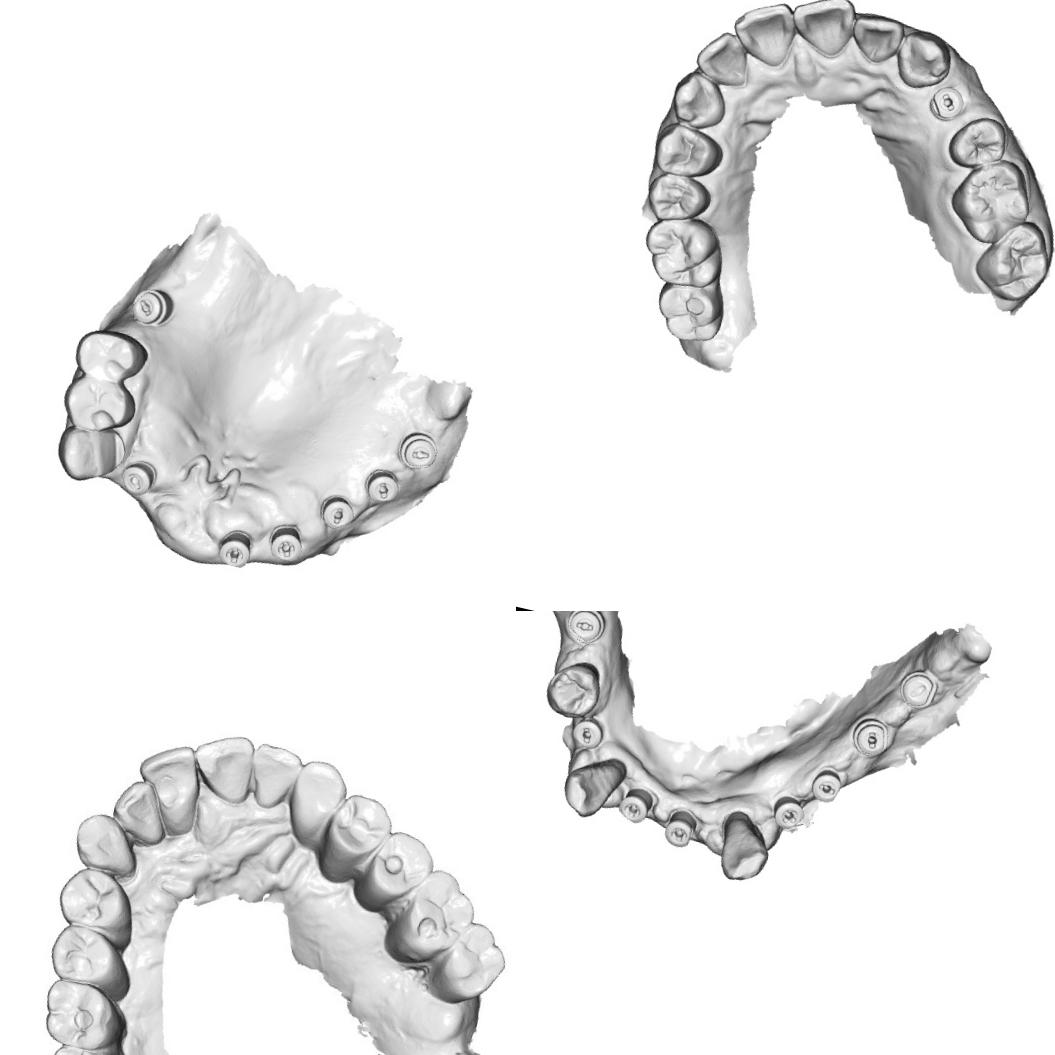canine: (281, 753, 351, 843), (48, 417, 131, 491), (67, 806, 147, 881), (556, 748, 630, 826), (712, 808, 780, 889), (666, 66, 734, 135), (890, 25, 957, 95)
implant_minus: (126, 284, 180, 333), (392, 426, 444, 476), (894, 666, 942, 714), (846, 712, 894, 760), (213, 525, 258, 571), (116, 456, 160, 502), (561, 611, 610, 651), (360, 463, 405, 506), (316, 490, 359, 534), (566, 712, 608, 754), (807, 765, 846, 807), (926, 84, 966, 124)
implant_plus: (262, 518, 308, 566), (660, 804, 702, 852), (767, 792, 810, 836), (616, 783, 656, 828)
incisor: (130, 735, 210, 816), (184, 724, 262, 805), (104, 774, 178, 850), (725, 0, 801, 70), (242, 739, 306, 814), (784, 0, 859, 63), (690, 25, 757, 90), (846, 7, 908, 69)
molar: (386, 861, 484, 970), (940, 148, 1042, 252), (426, 911, 516, 1014), (633, 208, 734, 295), (970, 210, 1055, 309), (33, 971, 126, 1055), (649, 271, 731, 349), (41, 1036, 130, 1055)
premolar: (50, 861, 144, 945), (314, 786, 396, 878), (41, 916, 132, 996), (360, 823, 440, 908), (56, 371, 144, 441), (69, 322, 154, 390), (648, 118, 730, 184), (943, 108, 1014, 178), (540, 654, 608, 724), (640, 169, 714, 230)
